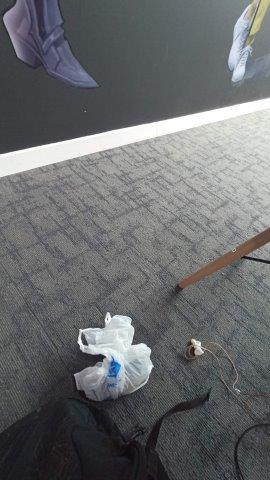plastik: (75, 313, 153, 400)
